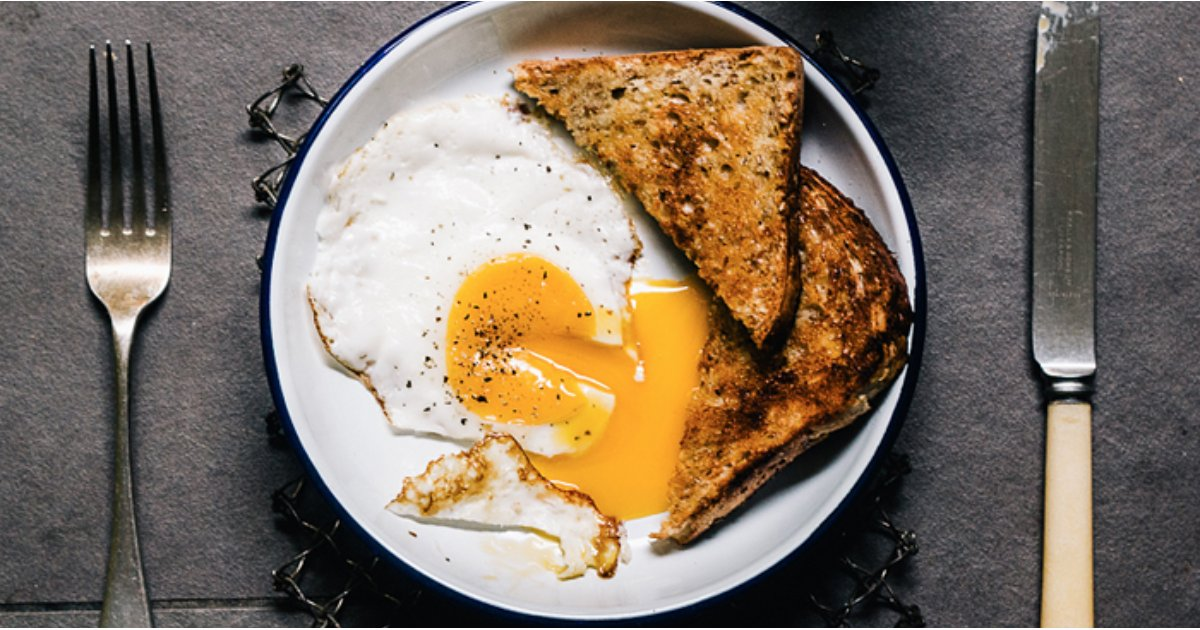fried egg: (338, 105, 614, 490)
slice of bread: (557, 45, 820, 354)
